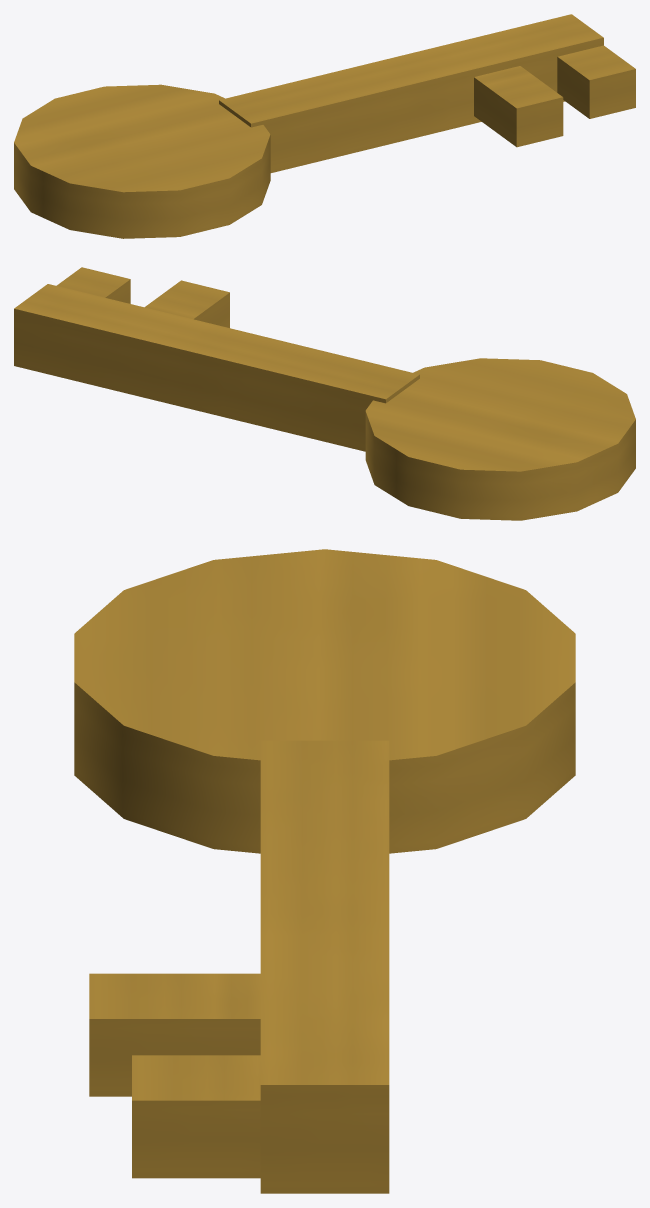
The model's file is Item_Key.fbx.
3 views of the same model, one above another, from view 1: azimuth 30°, elevation 25°; view 2: azimuth 150°, elevation 25°; view 3: azimuth 270°, elevation 25° (orthographic). The views are drawn at different scales.
Visible parts, largest first — view 1: Item_Key; view 2: Item_Key; view 3: Item_Key.
Boxes of the visible parts, box(x1,y1,x2,y2) form: Item_Key: box(14, 14, 635, 238); Item_Key: box(14, 267, 635, 520); Item_Key: box(74, 549, 575, 1193).
Bounding box in the file's own units: 0.3 × 0.028 × 0.117.
1 material, 1 textured.
